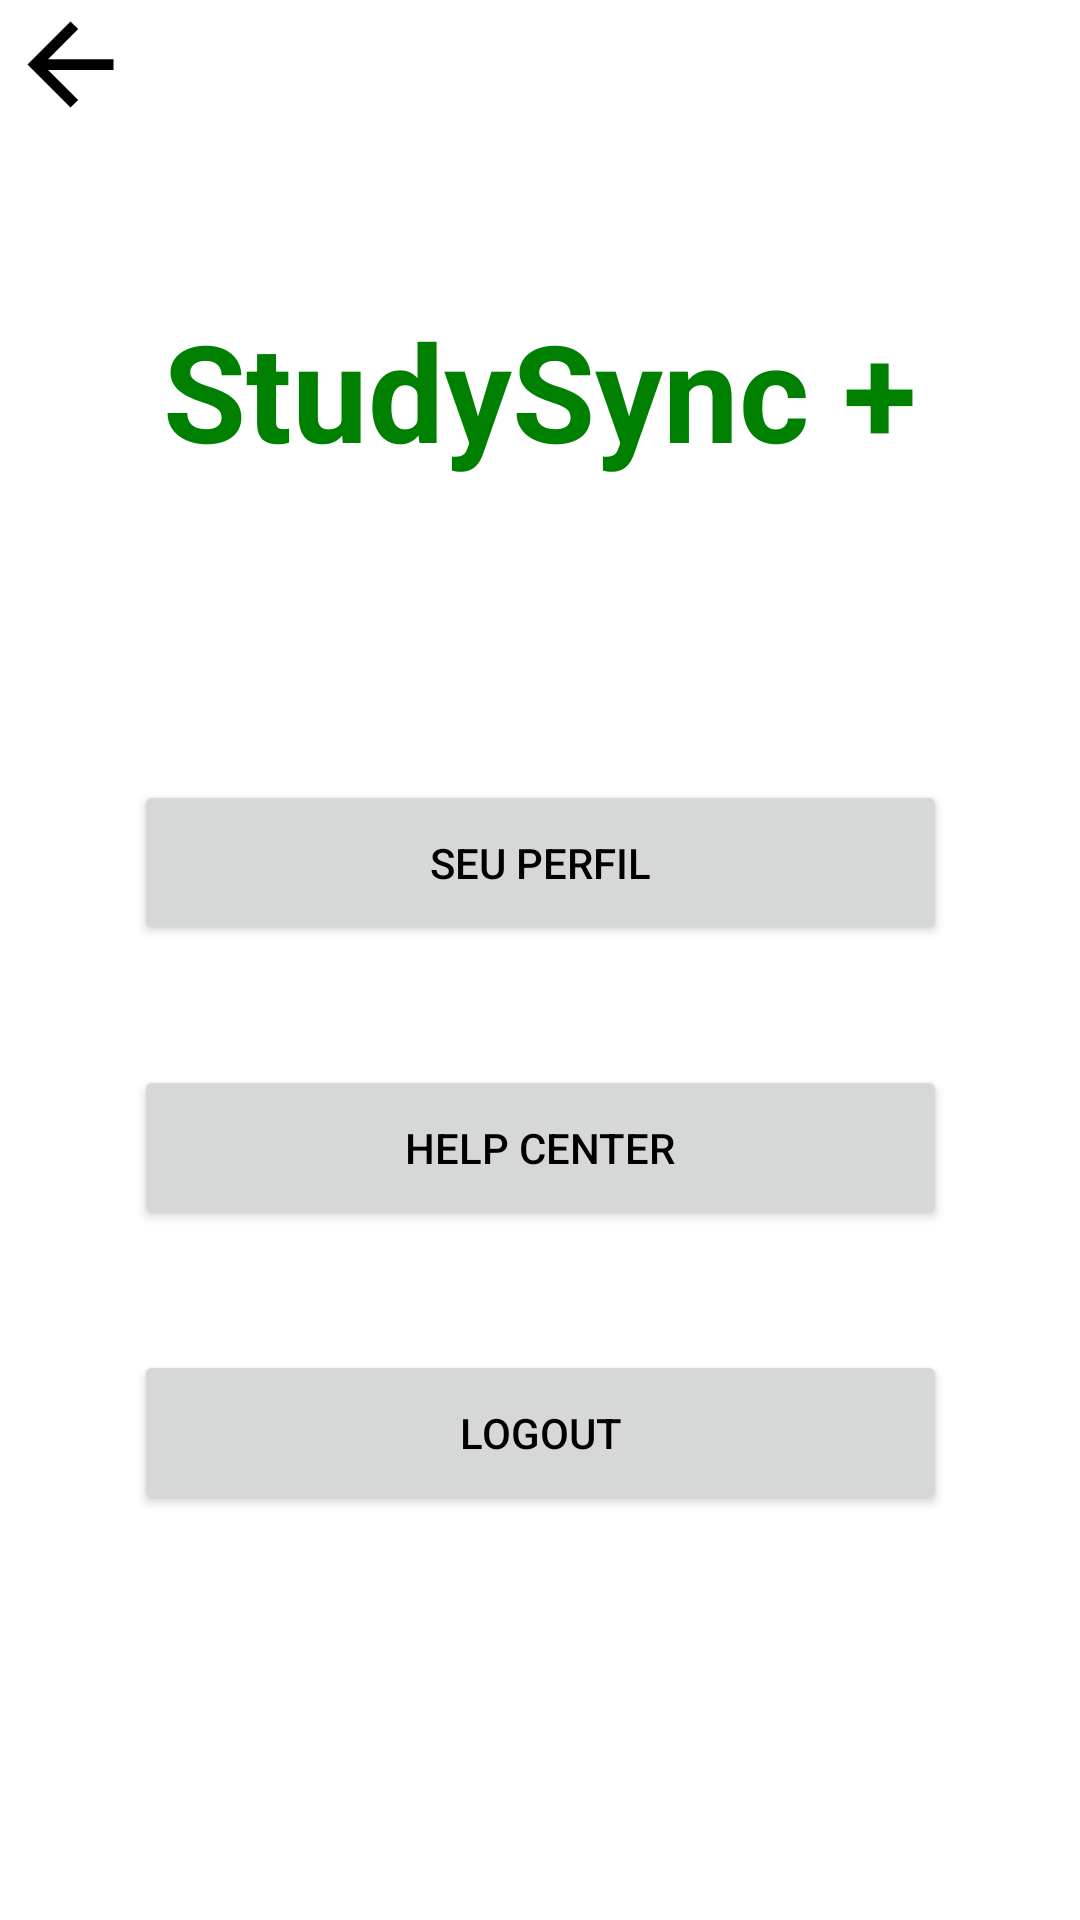

Where to tap for icons on this 1080px x 1920px app screen, as (x=x, y=y):
back arrow: (x=70, y=64)
